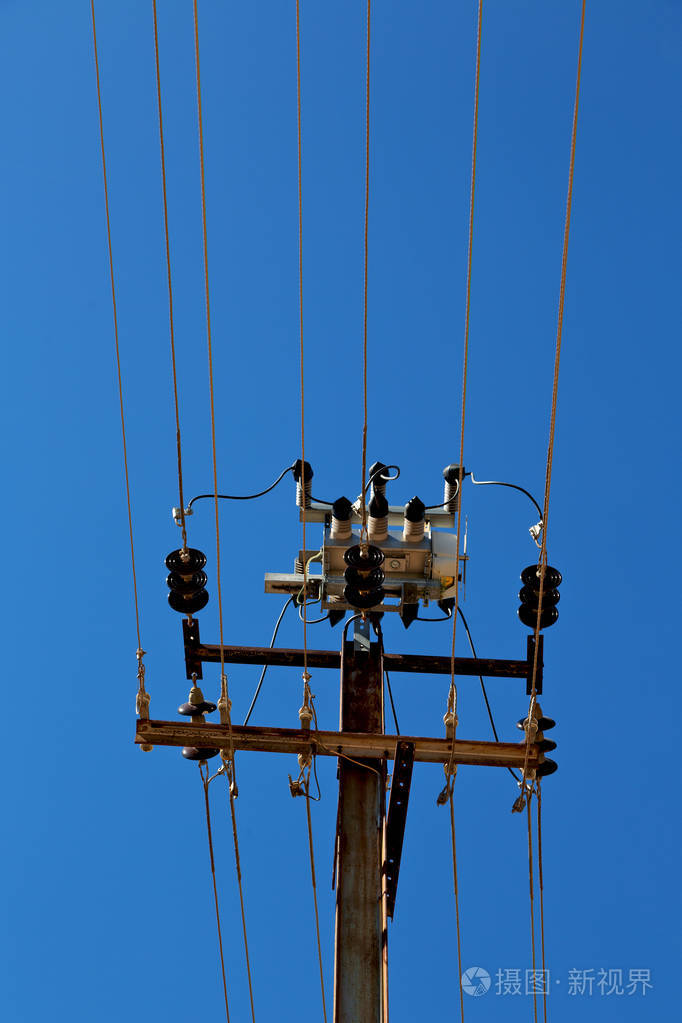insulator: (161, 545, 216, 616), (512, 710, 561, 785), (514, 559, 565, 630), (177, 697, 224, 766)
